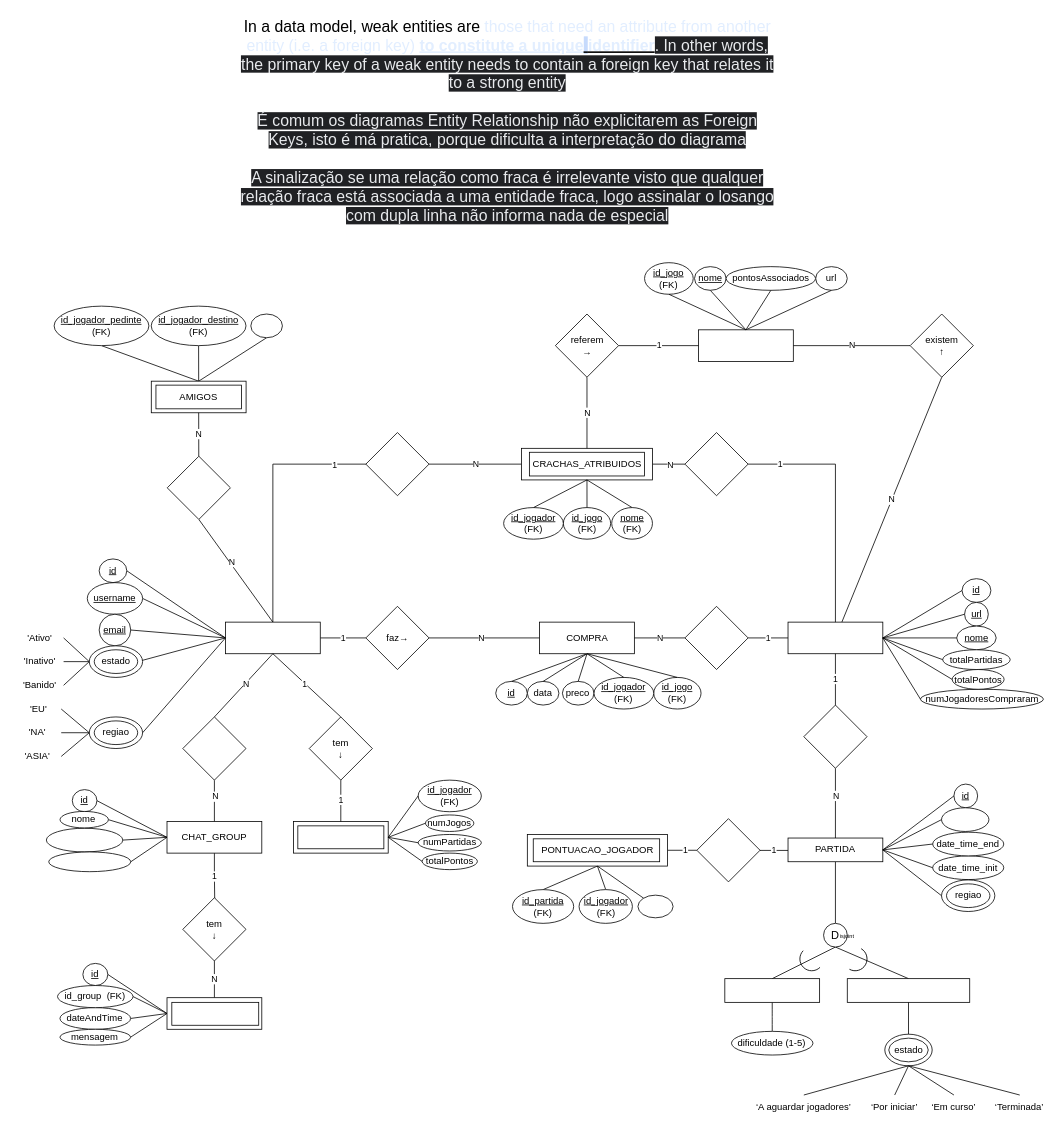
This 1057x1132 diagram has some shape labels left out. The box of each missing label's shape, as (x1, y1, x2, y2) in pixels:
aceite: (250, 313, 282, 338)
CHATS: (166, 997, 262, 1029)
compra-se →: (684, 606, 748, 670)
CRACHA: (698, 329, 793, 361)
cria ↓: (182, 716, 246, 780)
ESTATISTICA: (293, 821, 388, 853)
ganha →: (365, 432, 429, 496)
id_criador (FK): (46, 827, 123, 852)
id_jogo: (941, 807, 989, 831)
joga-se ↓: (803, 704, 867, 768)
JOGADOR: (225, 621, 320, 654)
JOGO: (787, 621, 883, 654)
num →: (684, 432, 748, 496)
participantes [ ]: (48, 851, 131, 872)
PARTIDA_MULTIJOGADOR: (846, 978, 970, 1002)
PARTIDA_NORMAL: (724, 978, 820, 1002)
pontos: (637, 894, 673, 918)
←tem: (696, 818, 760, 882)
↑ tem: (166, 455, 230, 519)
